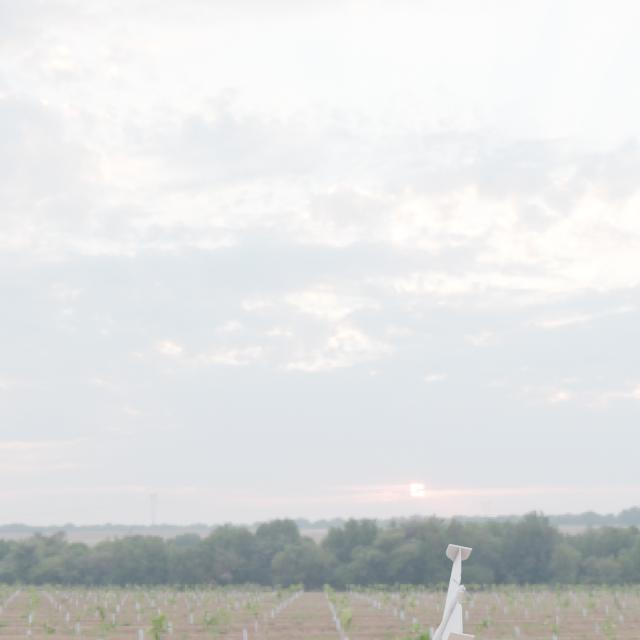Airaplan: (432, 544, 475, 640)
